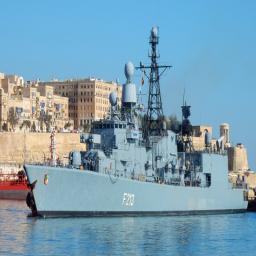Fragata: (22, 24, 251, 224)
